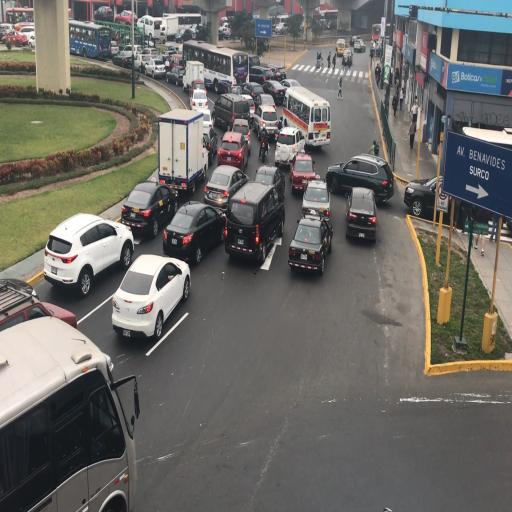auto: (1, 318, 138, 508), (43, 209, 132, 292), (111, 255, 188, 340), (226, 176, 284, 263), (2, 277, 75, 339), (163, 200, 226, 265), (122, 176, 178, 236), (327, 153, 390, 203), (288, 213, 332, 275), (404, 173, 450, 220), (205, 162, 248, 212), (42, 234, 79, 288), (345, 185, 376, 241), (212, 92, 251, 134), (254, 163, 286, 207), (217, 128, 250, 170), (289, 150, 318, 194), (301, 177, 330, 221), (274, 126, 304, 168), (253, 104, 277, 143), (261, 78, 287, 106), (248, 65, 278, 87), (165, 54, 187, 84), (116, 44, 142, 67), (136, 47, 160, 71), (253, 92, 275, 118), (144, 56, 166, 80), (242, 80, 264, 102), (2, 30, 28, 48), (153, 48, 173, 70), (190, 88, 208, 112), (114, 9, 136, 26), (278, 78, 301, 94), (198, 108, 213, 130), (94, 6, 114, 22), (163, 44, 180, 62), (335, 38, 349, 56), (224, 26, 233, 40), (350, 35, 360, 46), (353, 40, 362, 52), (358, 37, 366, 48), (218, 24, 224, 35)
bus: (283, 84, 330, 149), (182, 40, 238, 92), (69, 18, 112, 59), (164, 12, 202, 41), (140, 14, 166, 42), (4, 7, 33, 26), (274, 14, 290, 33), (371, 22, 382, 44)
camion: (157, 109, 205, 198), (184, 60, 206, 96)
